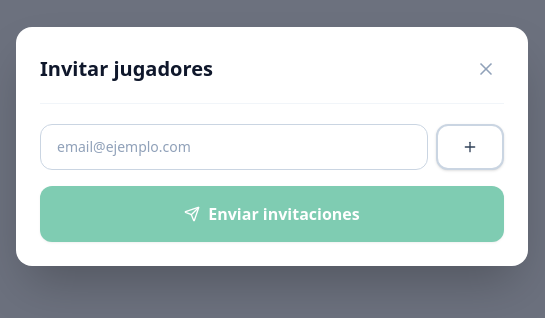
it: InviteModal › shows error for invalid email
The image size is (545, 318).
Type "not-an-email" into the field with placeholder "email@ejemplo.com".
click(234, 146); type("not-an-email")  # box [40,124,428,170]
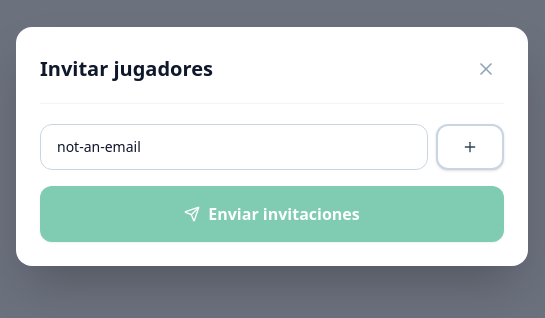
Click the button named "Agregar email".
click(470, 146)  # box [436,124,504,170]
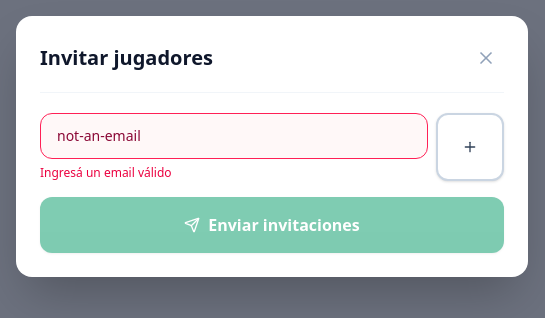
Expected: the text "Ingresá un email válido" is shown, [40,164,172,180]
